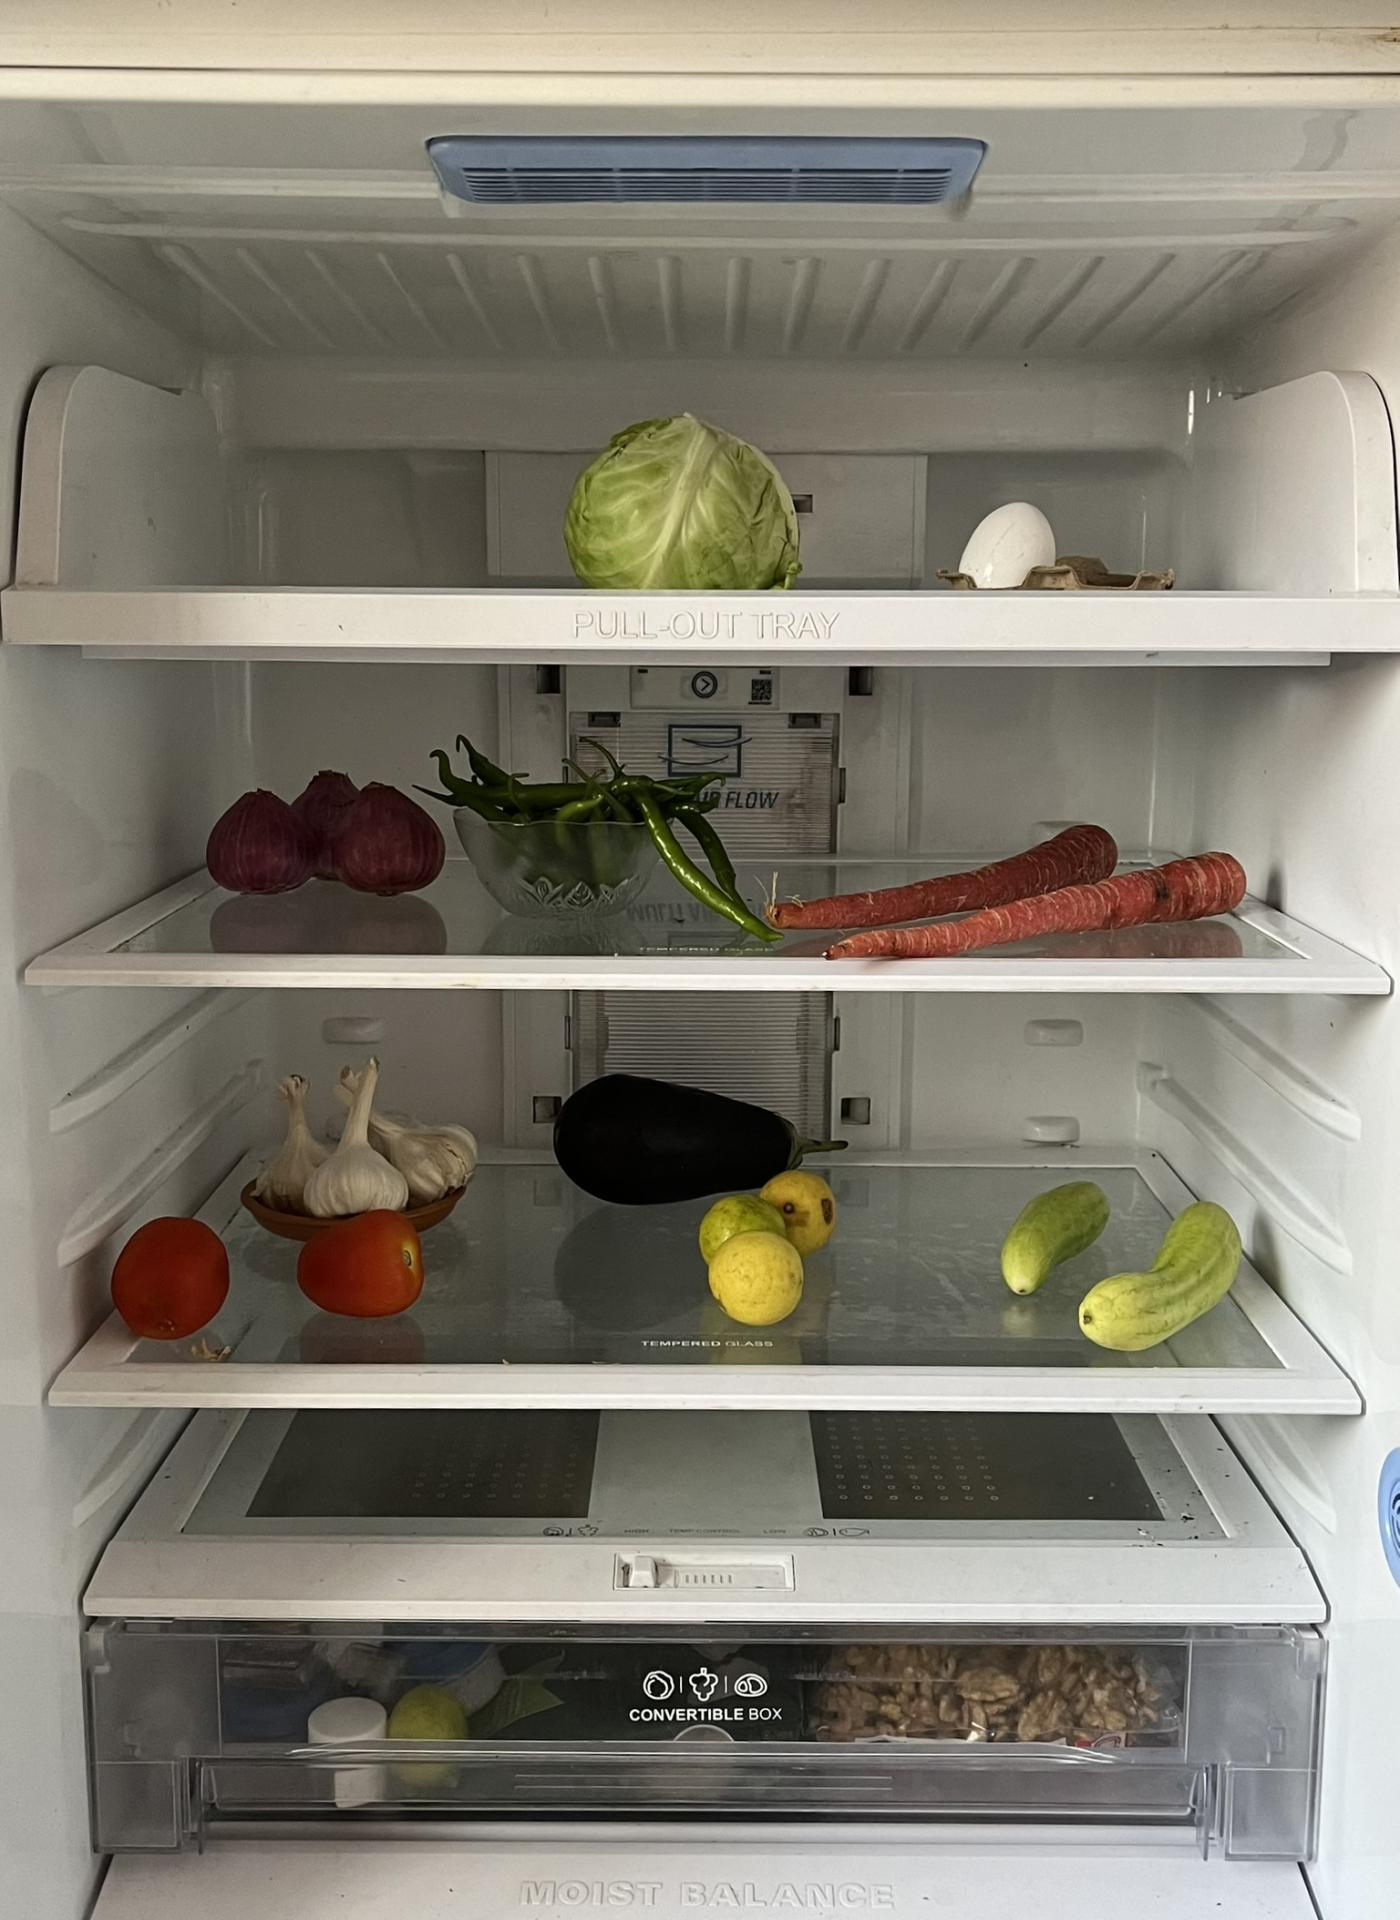brinjal: (552, 1076, 839, 1206)
cabbage: (567, 411, 810, 590)
carrots: (780, 820, 1258, 953)
chillies: (440, 739, 720, 862)
cucumber: (999, 1176, 1202, 1297), (1072, 1216, 1251, 1352)
egg: (950, 493, 1060, 583)
garlic: (237, 1051, 473, 1222)
lemon: (699, 1166, 839, 1330)
onion: (206, 774, 447, 900)
tomato: (115, 1213, 233, 1345), (295, 1212, 423, 1318)
